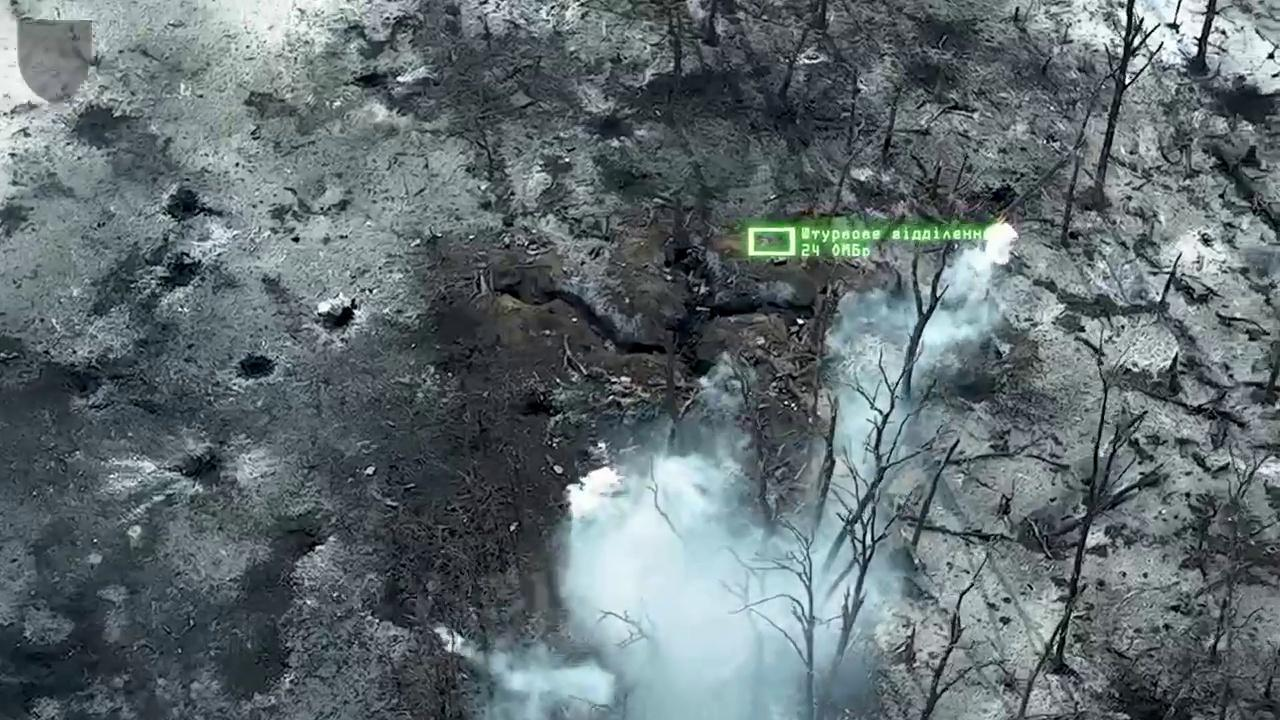trench: (496, 186, 818, 424)
